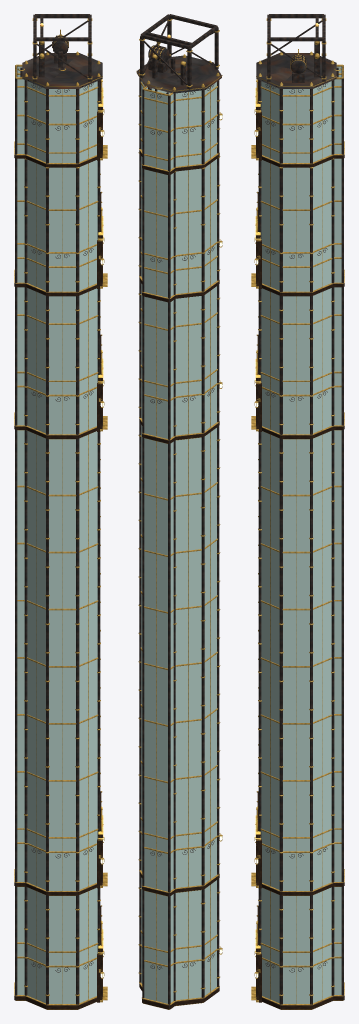
The model's file is sp_liftA_shaft.glb.
3 renders of one model, left to right at view 1: azimuth 90°, elevation 25°; view 2: azimuth 150°, elevation 25°; view 3: azimuth 270°, elevation 25°, orthographic.
Parts seen in each view (by area): view 1: spire; view 2: spire; view 3: spire.
Part boxes in pixels (x1,y1,x2,y2): spire: (14, 14, 107, 1009); spire: (136, 14, 222, 1009); spire: (251, 14, 344, 1009).
Bounding box in the file's own units: 5.15 × 68.07 × 5.94.
15 materials, 11 textured.
